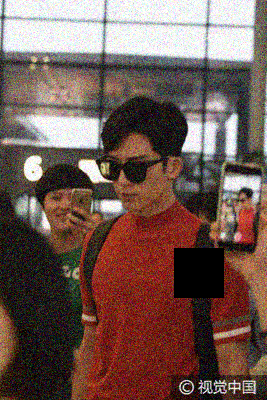without_mask: (108, 150, 169, 212), (45, 190, 80, 235)
